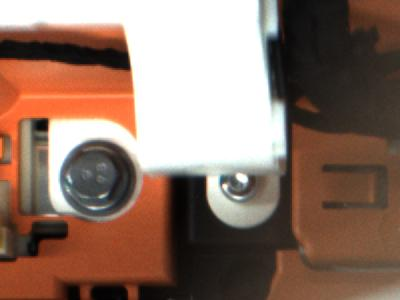nut_b: (58, 139, 138, 218)
